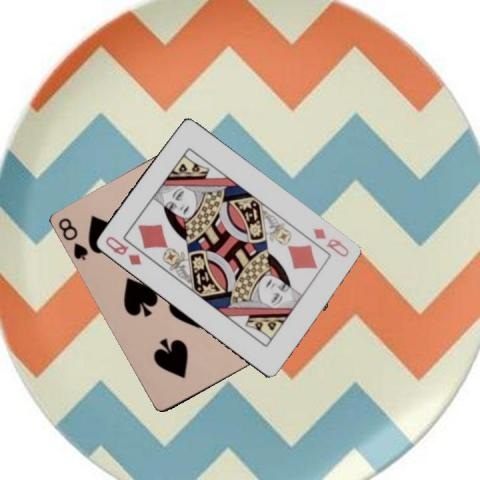8s: (55, 215, 90, 262)
Qd: (102, 233, 143, 267), (310, 225, 350, 259)
